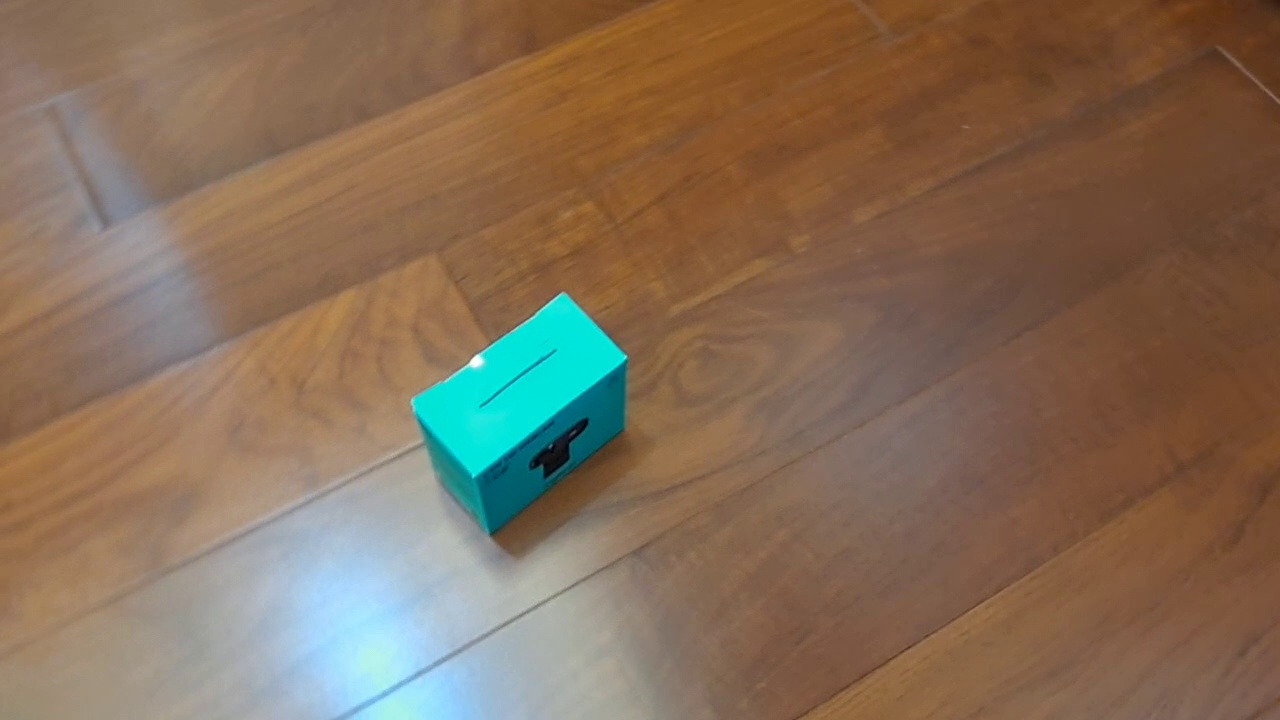webcam: (409, 290, 630, 536)
